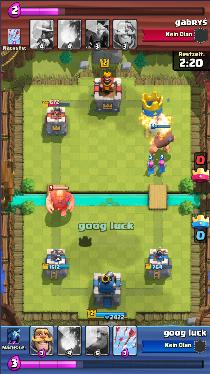ally_archer: (146, 161, 156, 175), (158, 160, 167, 173)
ally_giant: (151, 129, 175, 153)
enemy_giant: (47, 189, 75, 216)
